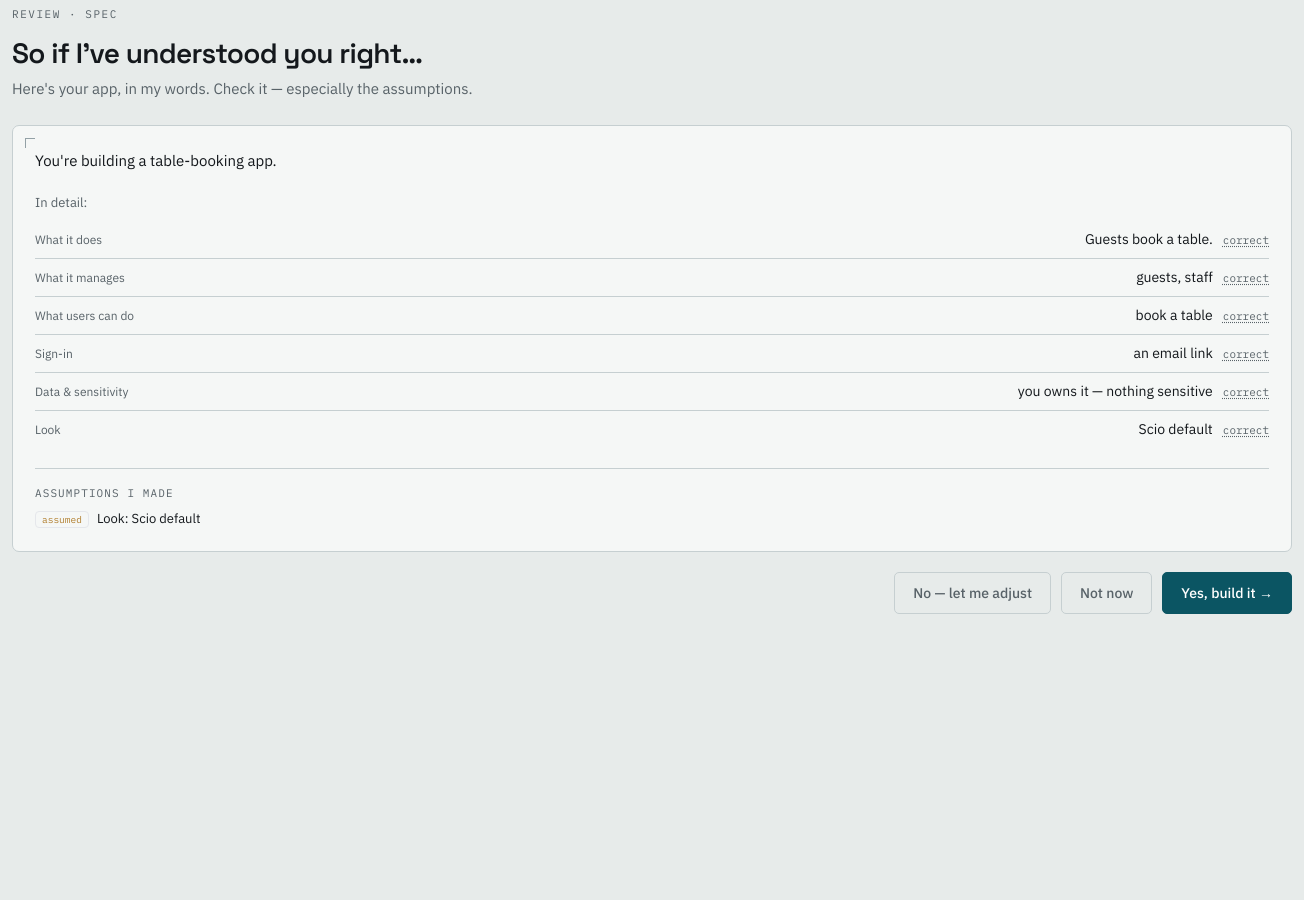
Test case: Correcting a field on the review screen › the whole screen re-renders from the corrected spec
The width and height of the screenshot is (1304, 900).
Click the button "correct" next to "guests, staff".
click(1246, 278)  # box [1223,270,1269,286]
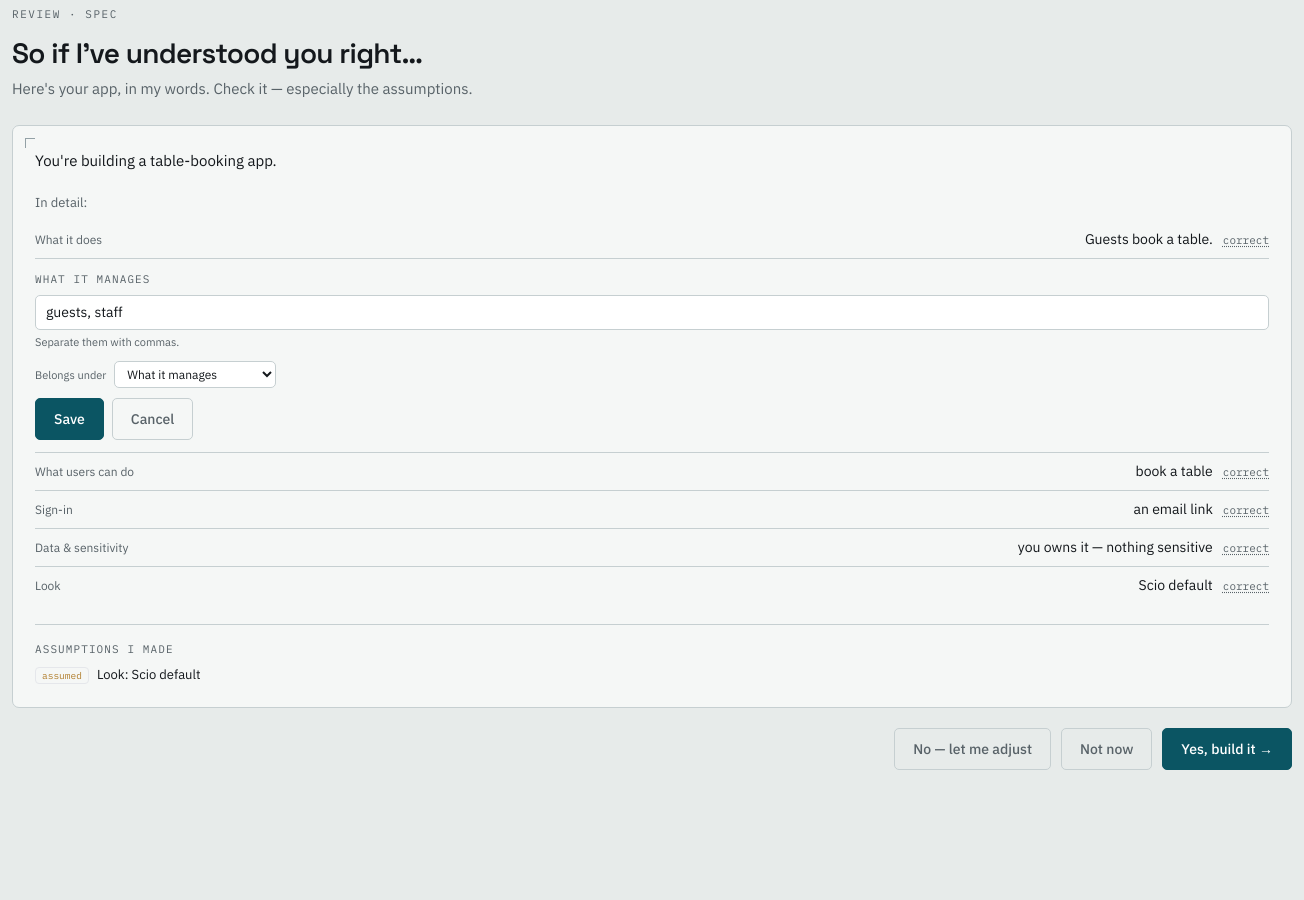
Select "Who it's for" in the dropdown labelled "Belongs under" at [195, 374], box [114,360,276,388]
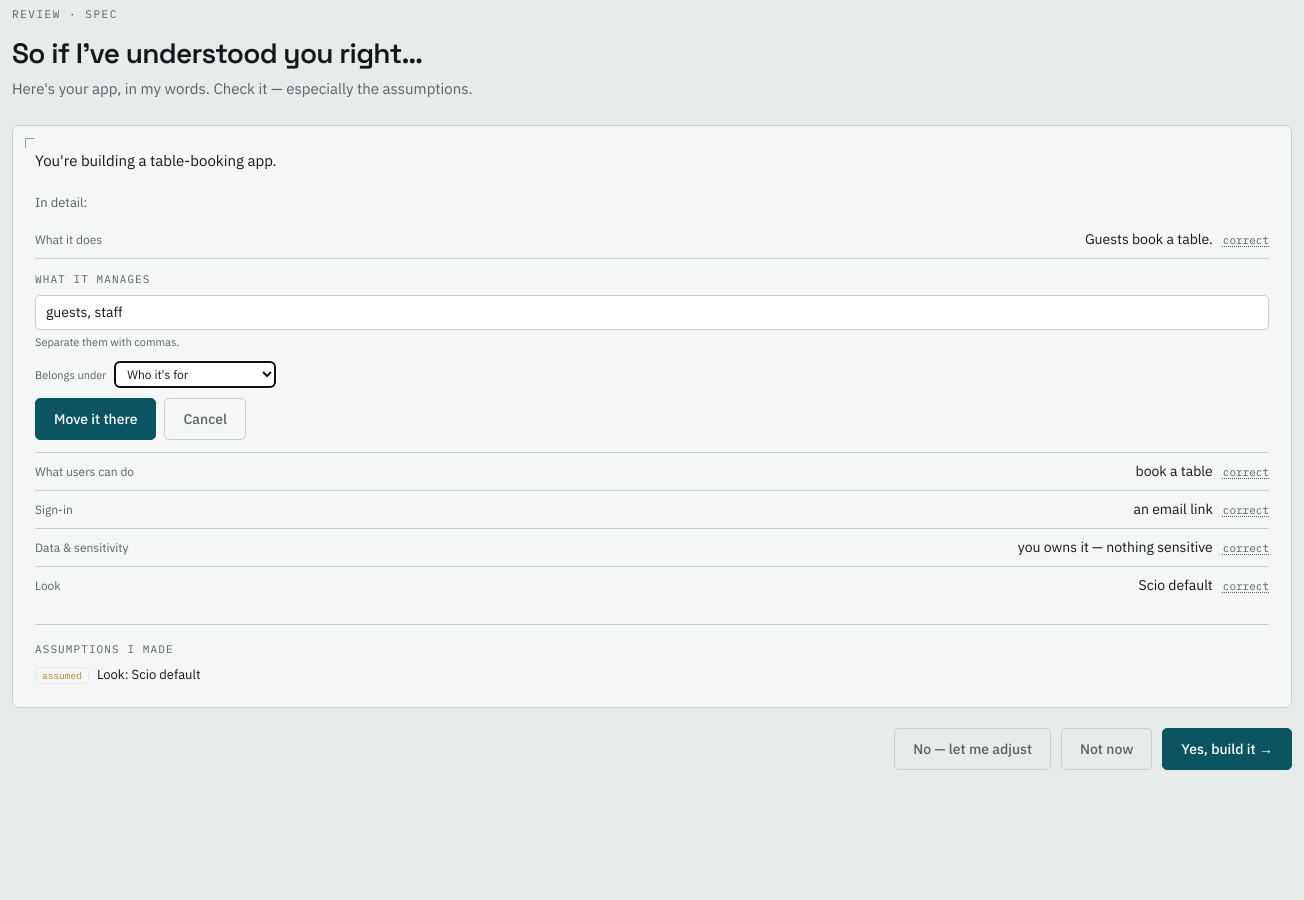
Click the button "Move it there".
click(96, 418)  # box [35,398,156,440]
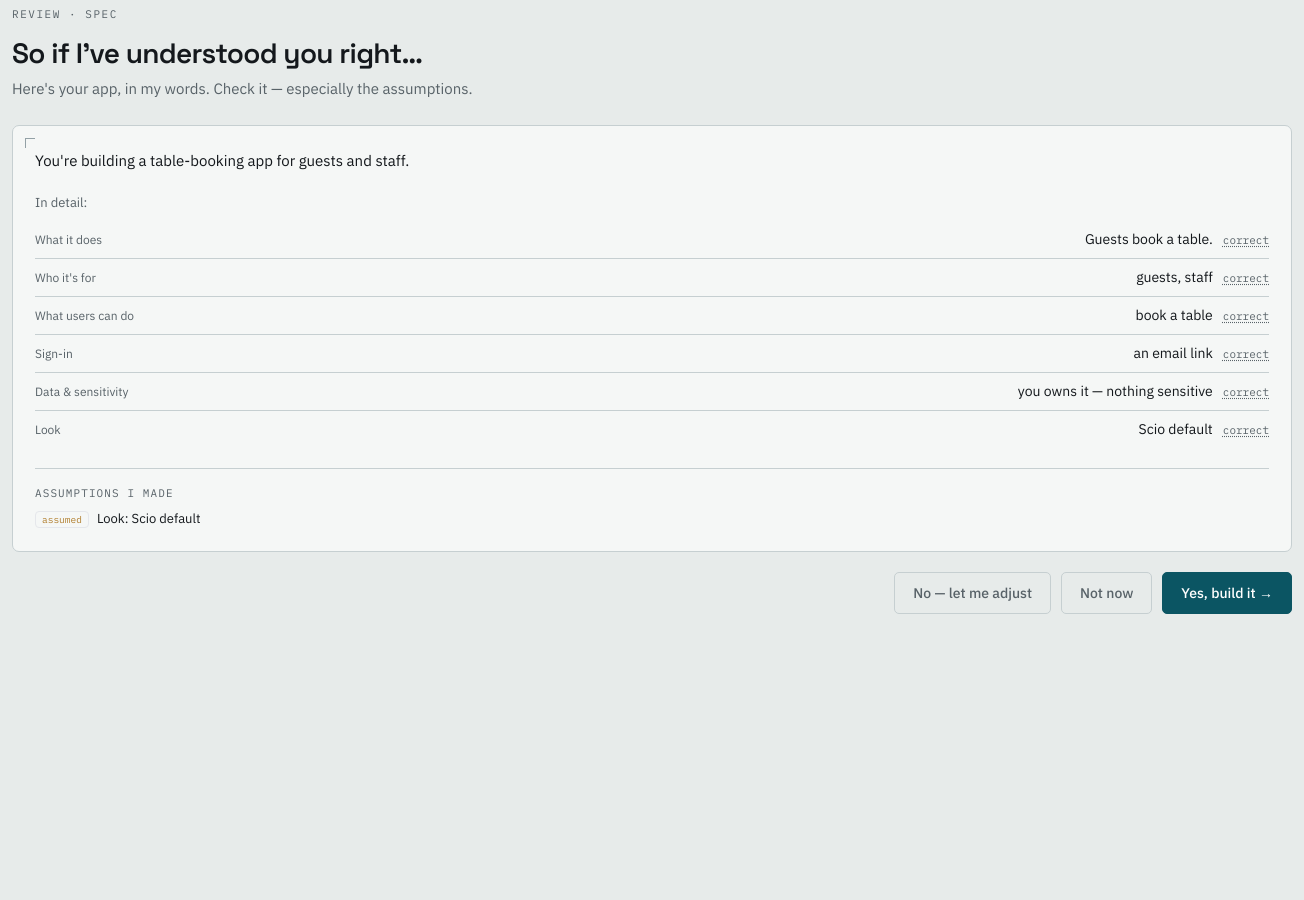
Expected: the text "You're building a table-booking app for guests and staff." is shown, [35,150,409,170]
Expected: the element with test id "row-users_and_roles" is shown, [35,258,1269,296]
